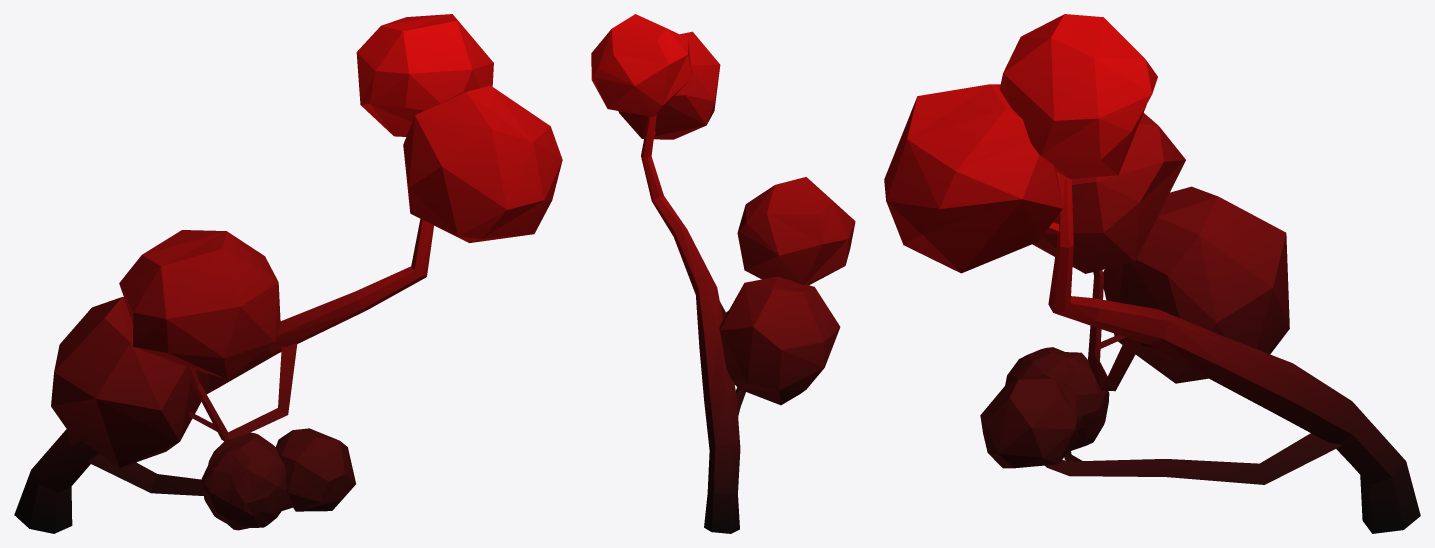
Rendered from TreeBent05.fbx.
The picture shows the model from 3 angles, left to right: view 1: azimuth 30°, elevation 25°; view 2: azimuth 150°, elevation 25°; view 3: azimuth 270°, elevation 25°; orthographic projection. The views are drawn at different scales.
Visible parts, largest first — view 1: TreeBent05_LOD0; view 2: TreeBent05_LOD0; view 3: TreeBent05_LOD0.
Part boxes in pixels (x1=…): TreeBent05_LOD0: x1=14, y1=14, x2=562, y2=533; TreeBent05_LOD0: x1=591, y1=14, x2=855, y2=533; TreeBent05_LOD0: x1=884, y1=14, x2=1420, y2=533.
Size of what is drawn, in the model's own units: 1003 by 1332 by 1017.
